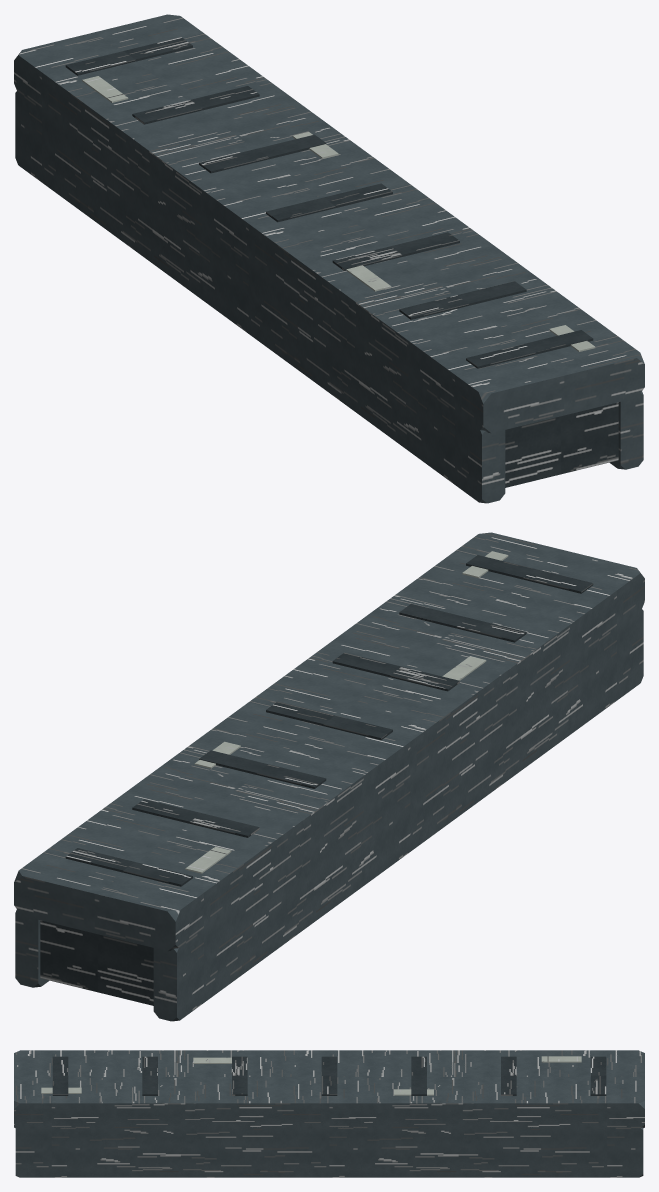
The model's file is iron_bar.glb.
3 views of the same model, one above another, from view 1: azimuth 30°, elevation 25°; view 2: azimuth 150°, elevation 25°; view 3: azimuth 270°, elevation 25° (orthographic). The views are drawn at different scales.
Parts seen in each view (by area): view 1: cast_iron_top_dark_alloy, cast_channel_wall_L_dark_alloy, end_bridge_R_graphite, cast_channel_wall_R_dark_alloy, cast_spine_ridge_5_graphite, cast_spine_ridge_1_graphite, cast_spine_ridge_0_graphite, cast_spine_ridge_3_graphite, cast_spine_ridge_2_graphite, cast_spine_ridge_4_graphite, cast_spine_ridge_6_graphite; view 2: cast_iron_top_dark_alloy, cast_channel_wall_L_dark_alloy, end_bridge_F_graphite, cast_channel_wall_R_dark_alloy, cast_spine_ridge_1_graphite, cast_spine_ridge_4_graphite, cast_spine_ridge_0_graphite, cast_spine_ridge_5_graphite, cast_spine_ridge_3_graphite, cast_spine_ridge_2_graphite, cast_spine_ridge_6_graphite; view 3: cast_iron_top_dark_alloy, cast_channel_wall_R_dark_alloy, cast_spine_ridge_0_graphite, cast_spine_ridge_3_graphite, cast_spine_ridge_6_graphite, cast_spine_ridge_1_graphite, cast_spine_ridge_2_graphite, cast_spine_ridge_4_graphite, cast_spine_ridge_5_graphite, edge_abrasion_0_satin_steel, edge_abrasion_2_satin_steel.
Boxes of the visible parts, x1,y1,x2,y2 form: cast_iron_top_dark_alloy: (14, 14, 644, 433); cast_channel_wall_L_dark_alloy: (15, 90, 505, 503); end_bridge_R_graphite: (505, 402, 618, 487); cast_channel_wall_R_dark_alloy: (609, 391, 643, 469); cast_spine_ridge_5_graphite: (399, 281, 526, 319); cast_spine_ridge_1_graphite: (132, 86, 259, 124); cast_spine_ridge_0_graphite: (65, 37, 192, 75); cast_spine_ridge_3_graphite: (266, 183, 392, 222); cast_spine_ridge_2_graphite: (199, 134, 326, 173); cast_spine_ridge_4_graphite: (332, 232, 459, 270); cast_spine_ridge_6_graphite: (466, 330, 593, 368); cast_iron_top_dark_alloy: (14, 532, 644, 951); cast_channel_wall_L_dark_alloy: (153, 609, 643, 1021); end_bridge_F_graphite: (40, 920, 153, 1005); cast_channel_wall_R_dark_alloy: (15, 909, 49, 987); cast_spine_ridge_1_graphite: (132, 799, 259, 837); cast_spine_ridge_4_graphite: (332, 652, 459, 691); cast_spine_ridge_0_graphite: (65, 848, 192, 886); cast_spine_ridge_5_graphite: (399, 604, 526, 642); cast_spine_ridge_3_graphite: (266, 701, 392, 740); cast_spine_ridge_2_graphite: (199, 750, 326, 788); cast_spine_ridge_6_graphite: (466, 555, 593, 593); cast_iron_top_dark_alloy: (14, 1050, 644, 1130); cast_channel_wall_R_dark_alloy: (15, 1127, 643, 1177); cast_spine_ridge_0_graphite: (590, 1056, 606, 1095); cast_spine_ridge_3_graphite: (321, 1056, 337, 1095); cast_spine_ridge_6_graphite: (52, 1056, 68, 1095); cast_spine_ridge_1_graphite: (501, 1056, 516, 1095); cast_spine_ridge_2_graphite: (411, 1056, 426, 1095); cast_spine_ridge_4_graphite: (232, 1056, 247, 1095); cast_spine_ridge_5_graphite: (142, 1056, 157, 1095); edge_abrasion_0_satin_steel: (541, 1056, 581, 1062); edge_abrasion_2_satin_steel: (193, 1057, 231, 1063).
Size of the model in its own units: 0.119 by 0.079 by 0.598.
3 materials, 3 textured.
